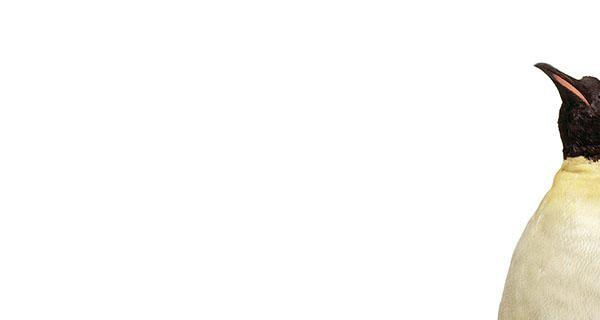Emperor Penguin: (449, 38, 600, 320)
